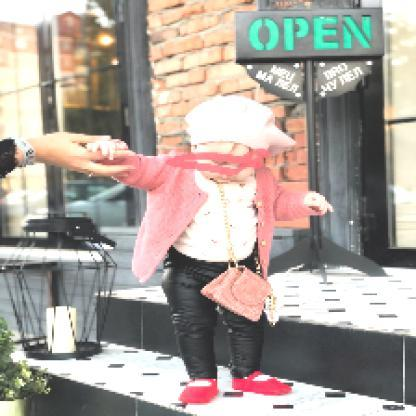child: (88, 96, 335, 406)
